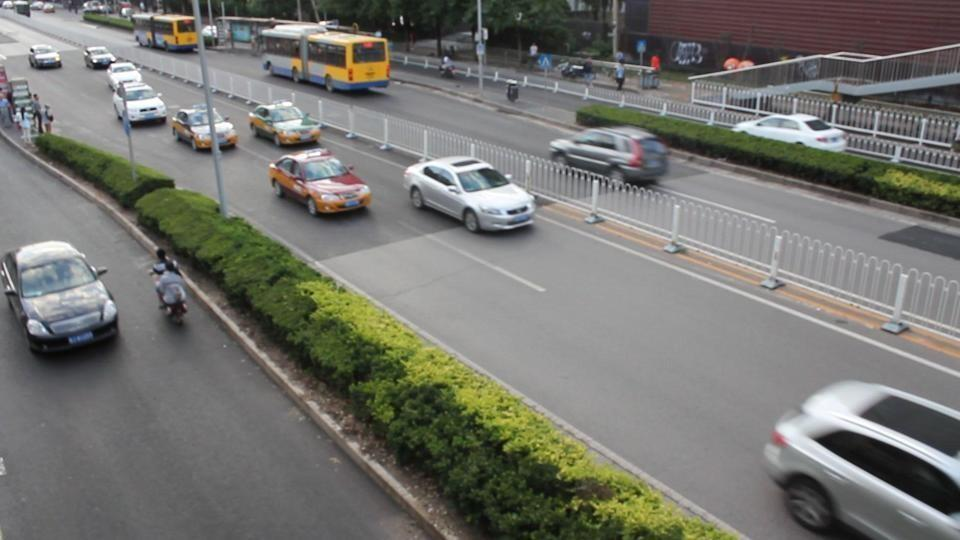car: (761, 379, 960, 537), (0, 240, 121, 356), (402, 155, 536, 234), (548, 127, 671, 186), (268, 148, 372, 216), (730, 113, 847, 152), (247, 102, 322, 146), (169, 105, 239, 152), (112, 83, 168, 127), (106, 62, 142, 94), (27, 45, 62, 70), (82, 46, 117, 70)
